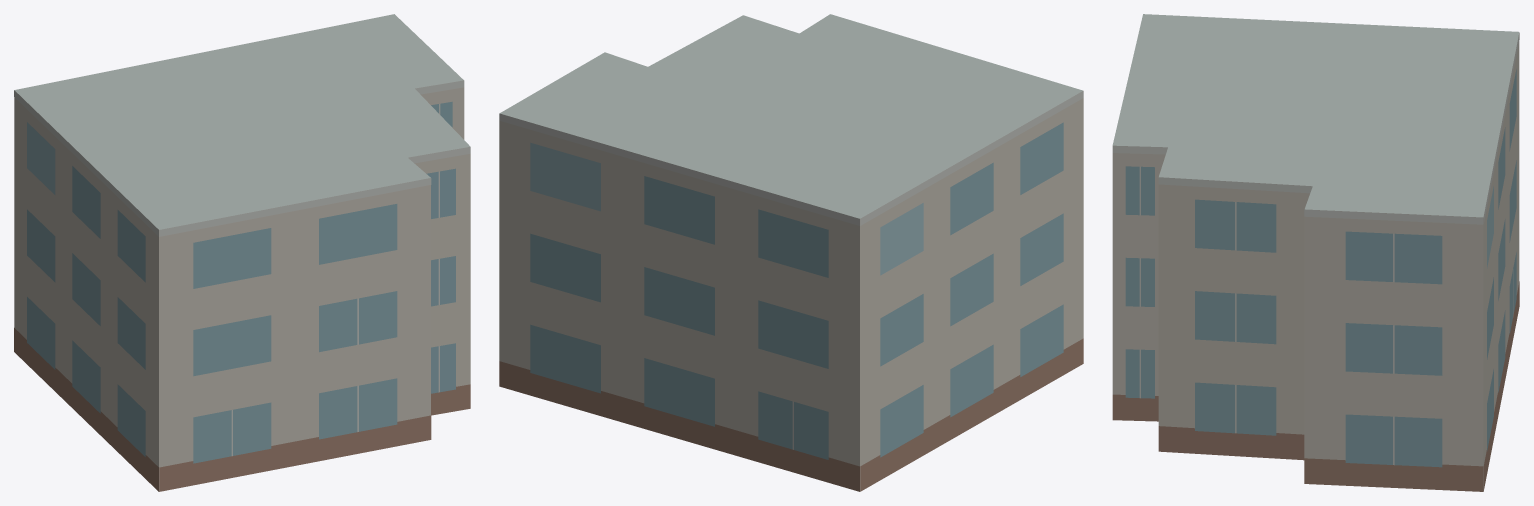
Rendered from survey-upis-32910577.glb.
3 renders of one model, left to right at view 1: azimuth 30°, elevation 25°; view 2: azimuth 150°, elevation 25°; view 3: azimuth 270°, elevation 25°, orthographic. The views are drawn at different scales.
Parts seen in each view (by area): view 1: survey-upis-32910577.tmp; view 2: survey-upis-32910577.tmp; view 3: survey-upis-32910577.tmp.
Boxes of the visible parts, bbox=[...] form: survey-upis-32910577.tmp: bbox=[14, 14, 470, 491]; survey-upis-32910577.tmp: bbox=[499, 14, 1083, 491]; survey-upis-32910577.tmp: bbox=[1112, 14, 1519, 491].
Bounding box in the file's own units: 14.56 × 9.15 × 12.31.
